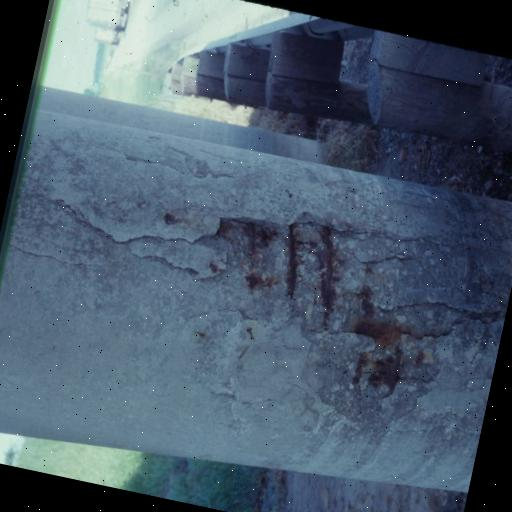spalling: (174, 203, 450, 437), (32, 179, 182, 277), (10, 233, 94, 281)
